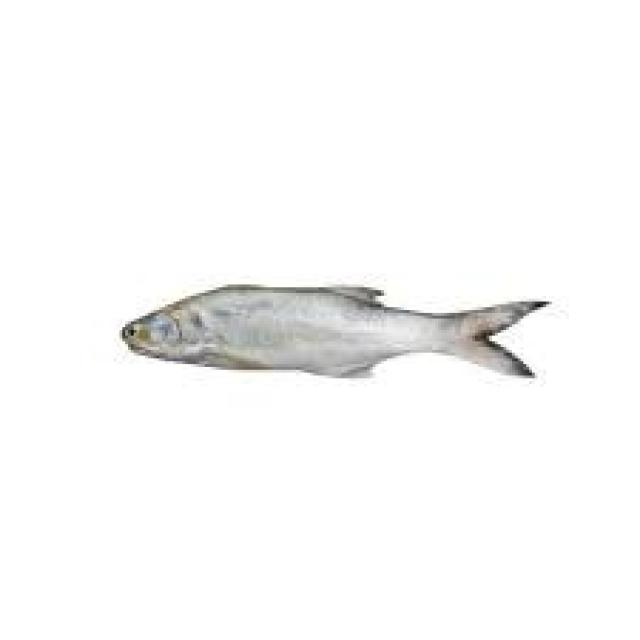Fourfinger-Threadfin: (99, 219, 564, 432)
